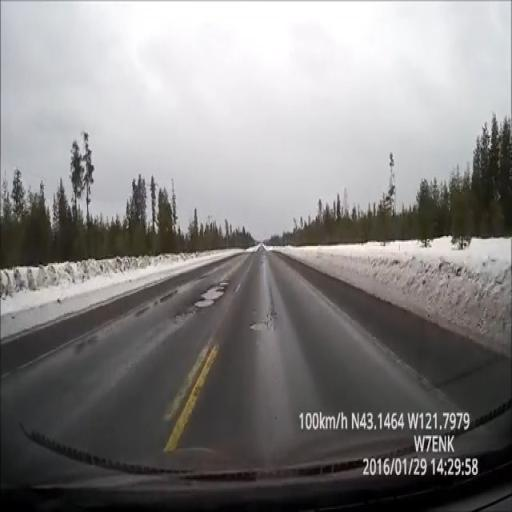Potholes: (174, 283, 228, 323), (194, 283, 228, 307), (250, 319, 269, 330)
